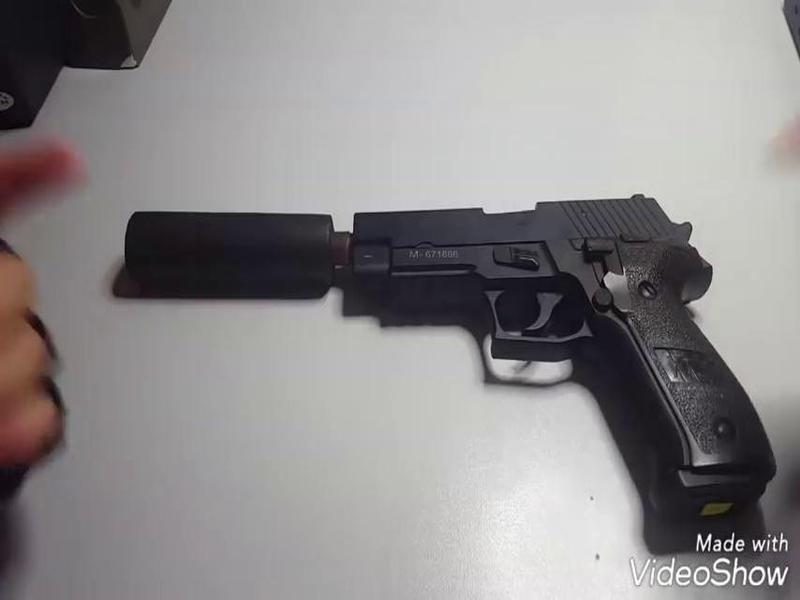Pistola: (351, 181, 775, 513)
